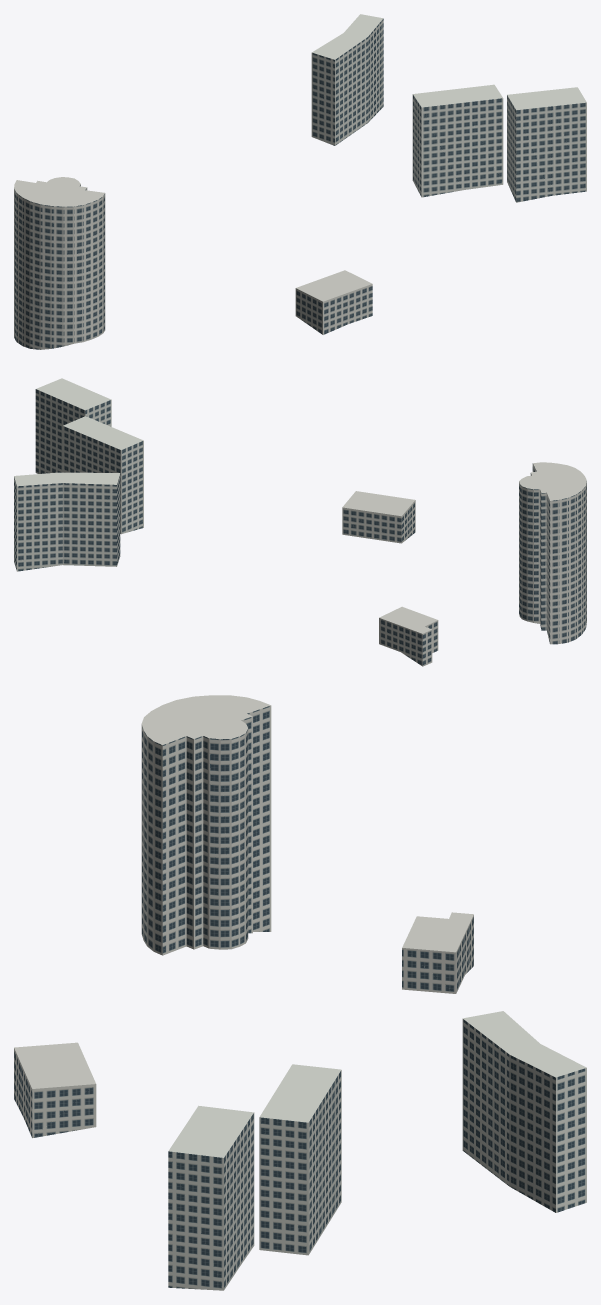
File: city_-7_1.glb
The picture shows the model from 3 angles, top to bottom: view 1: azimuth 30°, elevation 25°; view 2: azimuth 150°, elevation 25°; view 3: azimuth 270°, elevation 25°; orthographic projection. The views are drawn at different scales.
Size of the model in its own units: 277 by 70.71 by 160.
Materials: 2 (2 with a texture image).
